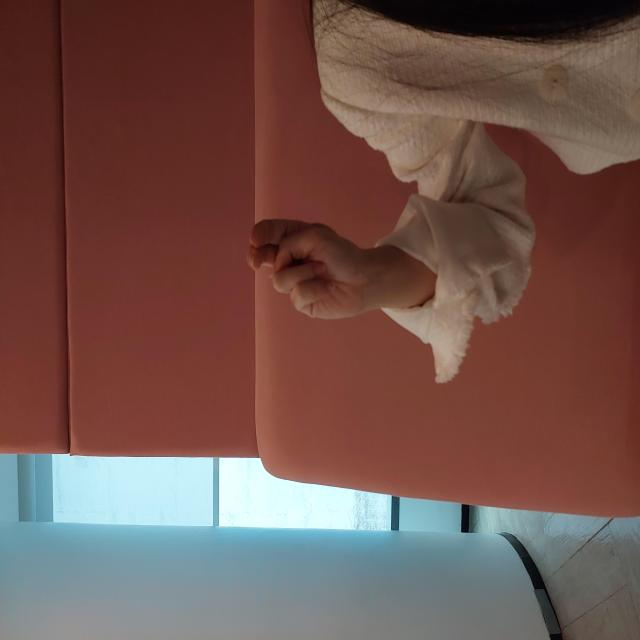N: (319, 245, 422, 357)
